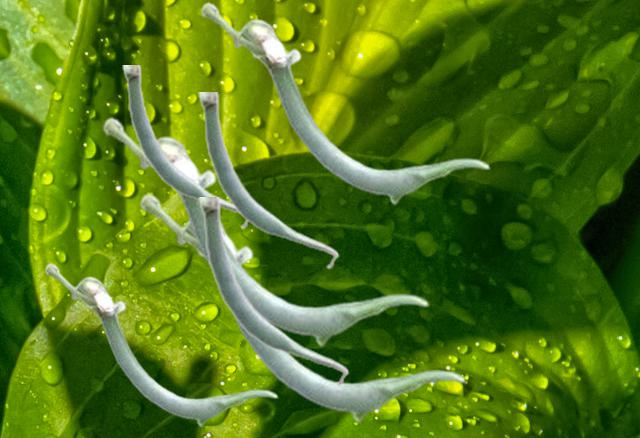french_bean: (139, 192, 465, 422), (102, 116, 428, 346), (200, 1, 489, 204), (44, 262, 277, 426), (198, 197, 348, 387), (198, 92, 338, 269), (122, 65, 250, 229)
